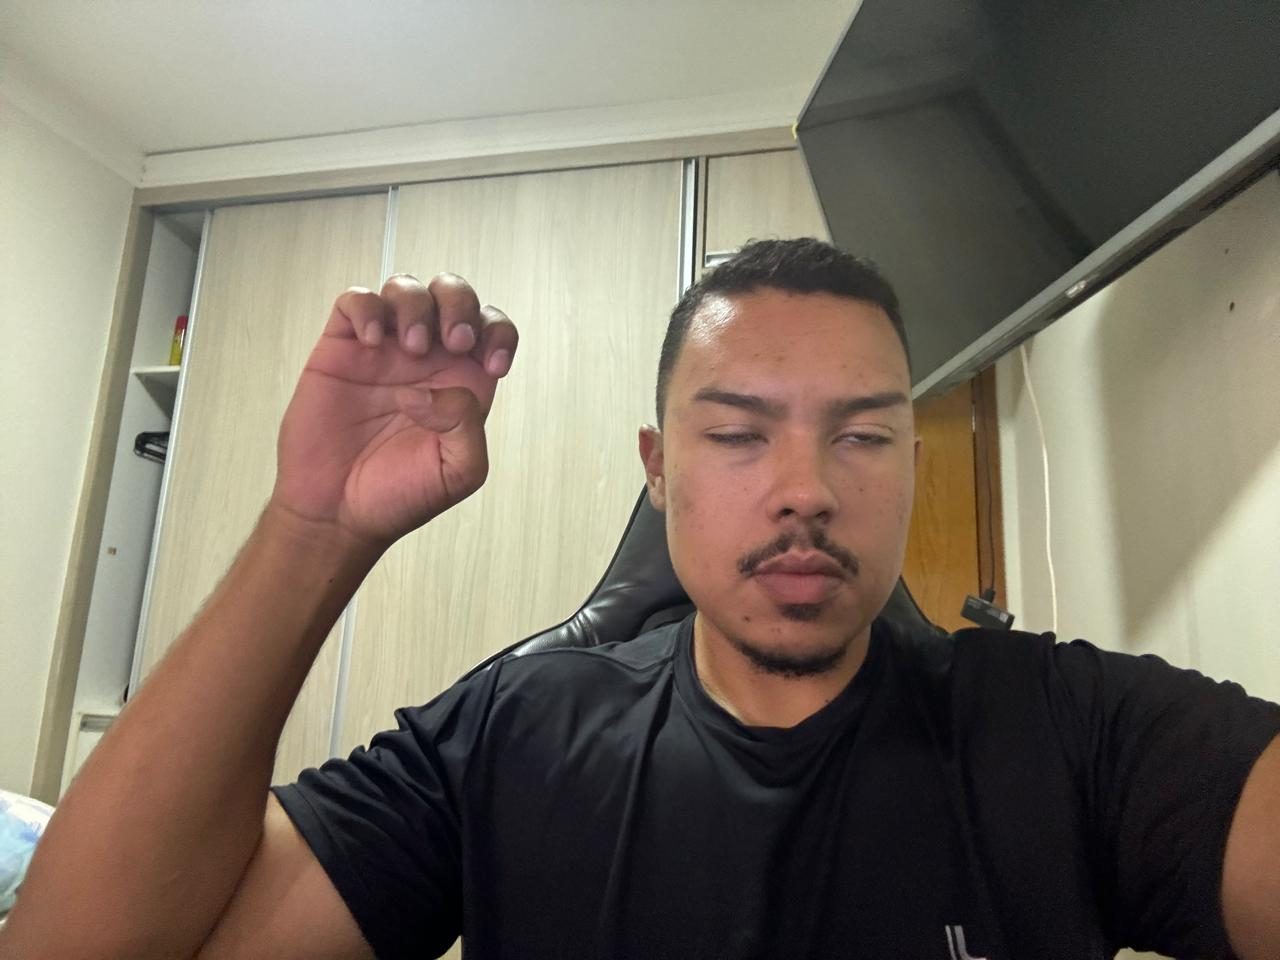e: (268, 258, 527, 547)
